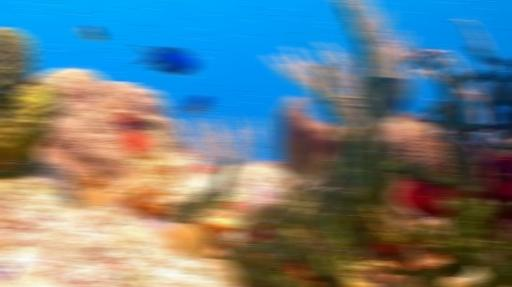Fish: (132, 46, 197, 75), (180, 94, 211, 119), (78, 25, 103, 42), (302, 96, 317, 104)
